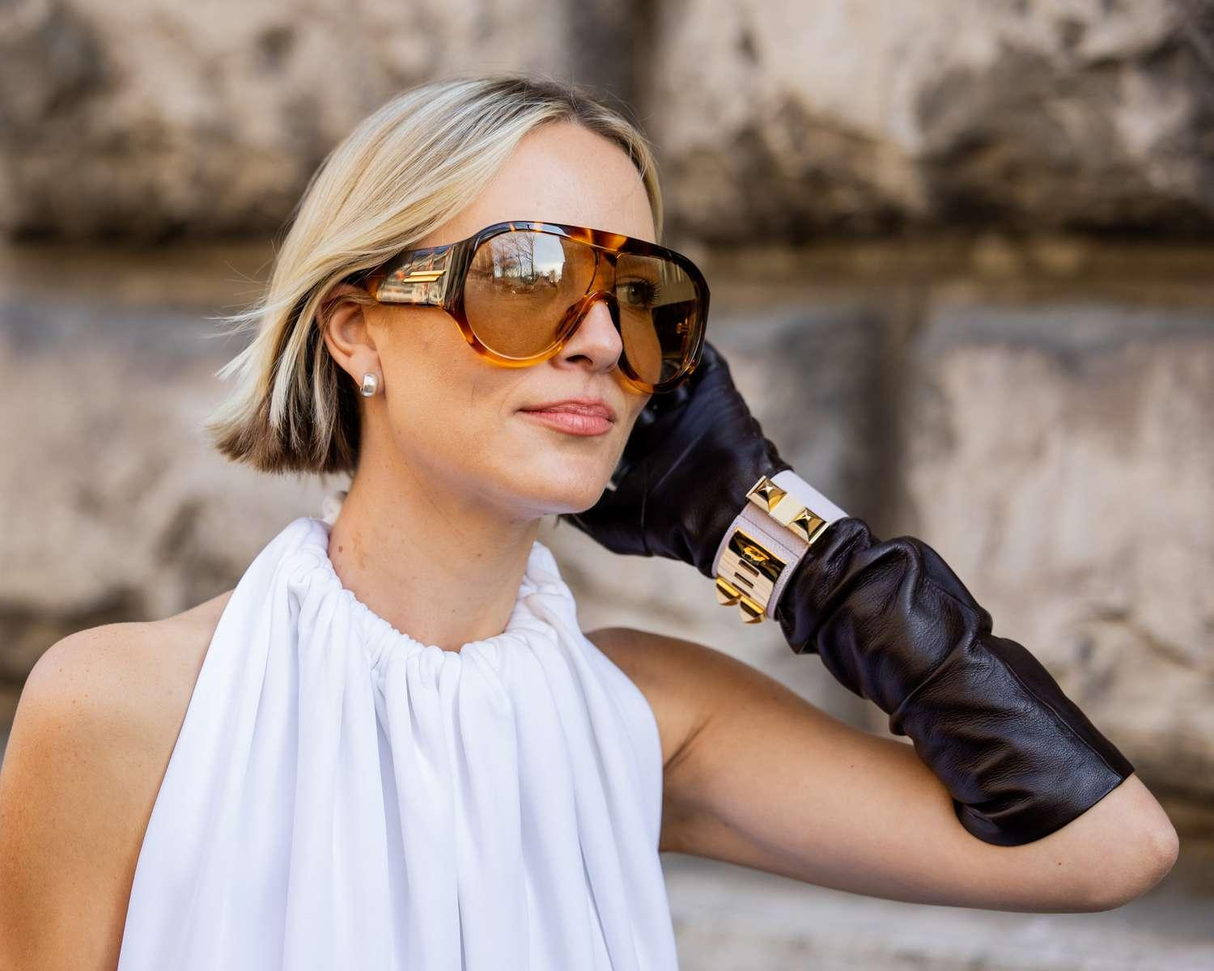sunglasses: (405, 197, 745, 435)
